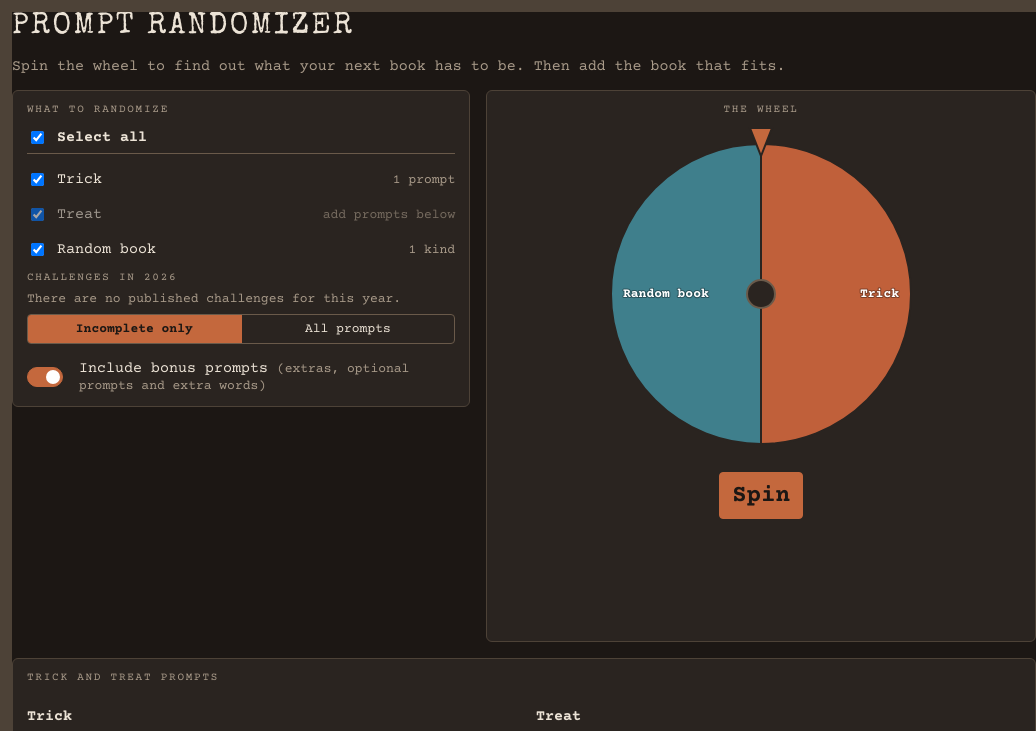
Test: select all and covers › is ticked when everything is on, a dash when some are, empty when none are
Expected: the checkbox labelled "Select all" is checked, [31,131,44,144]
Click the checkbox labelled "Trick 1 prompt" at (38, 180), box [31,173,44,186]
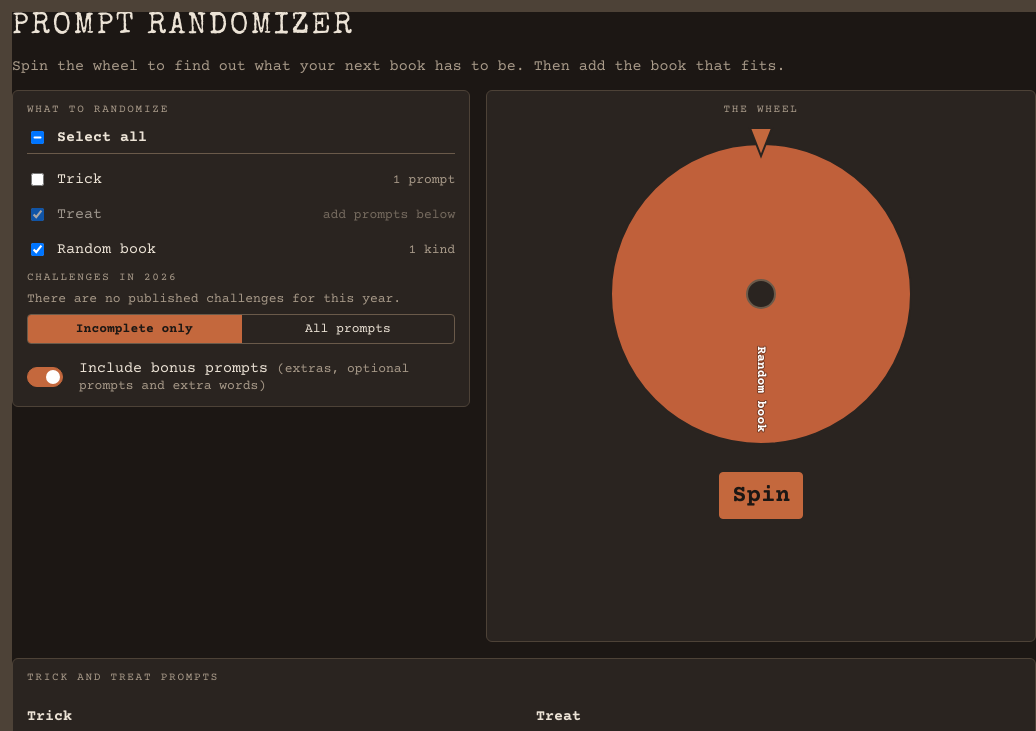
Now the checkbox labelled "Select all" is not checked
Click the checkbox labelled "Select all" at (38, 138), box [31,131,44,144]
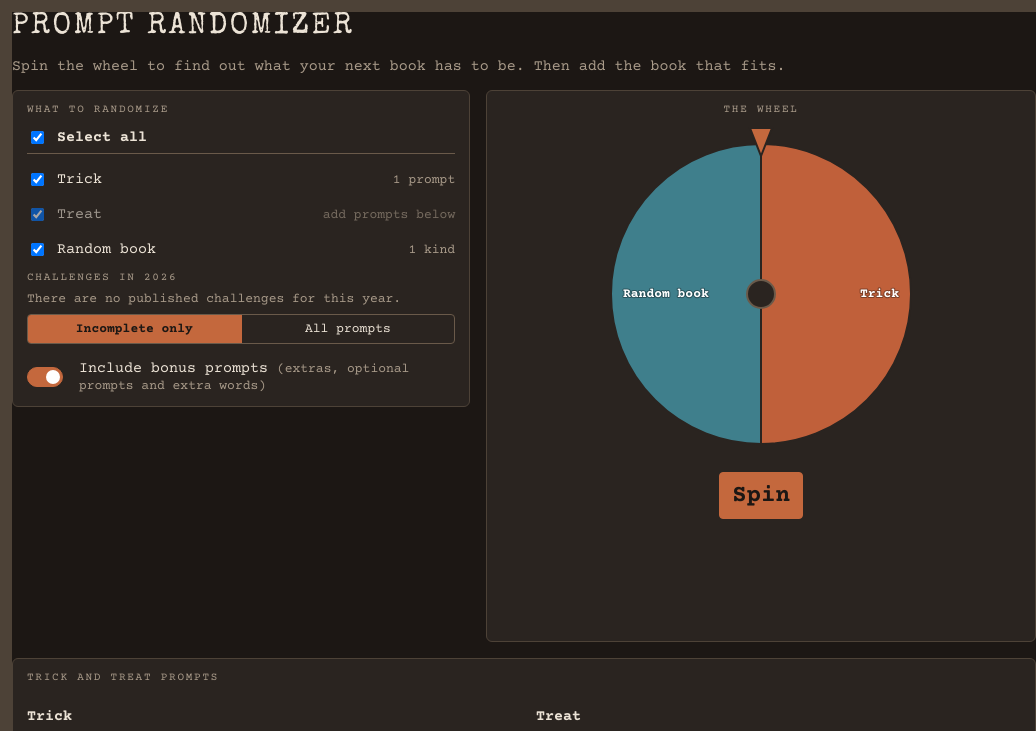
Now the checkbox labelled "Select all" is checked
Click the checkbox labelled "Select all" at (38, 138), box [31,131,44,144]
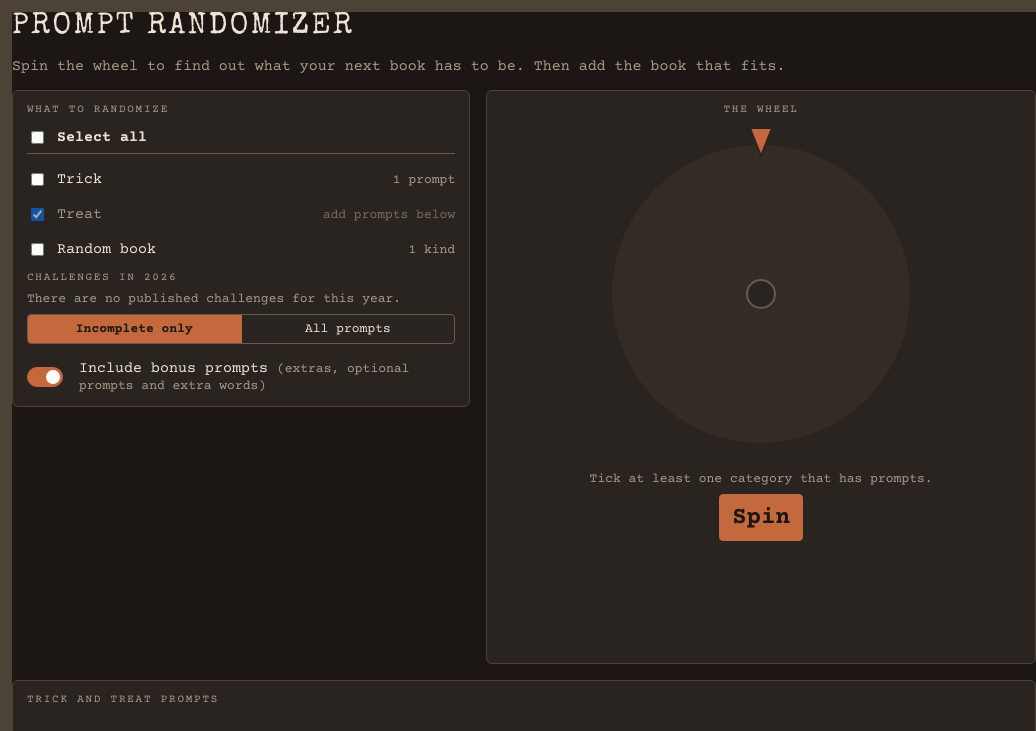
Now the checkbox labelled "Select all" is not checked, box [31,131,44,144]
Now the checkbox labelled "Trick 1 prompt" is not checked, box [31,173,44,186]
Now the checkbox labelled "Random book 1 kind" is not checked, box [31,243,44,256]
